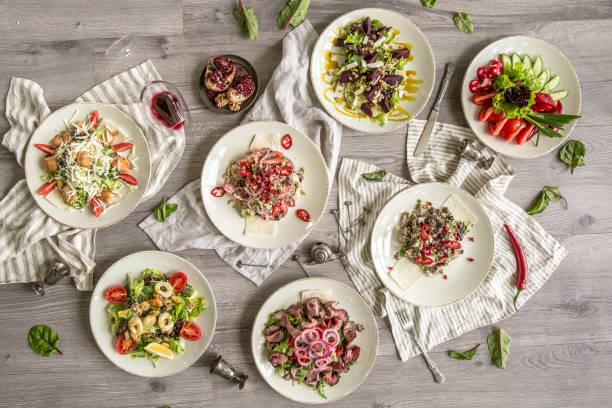Braised Crucian Carp: (305, 9, 441, 138), (367, 180, 496, 309), (459, 31, 583, 163), (200, 121, 327, 249), (250, 277, 378, 403), (24, 102, 151, 228), (89, 251, 215, 377)
